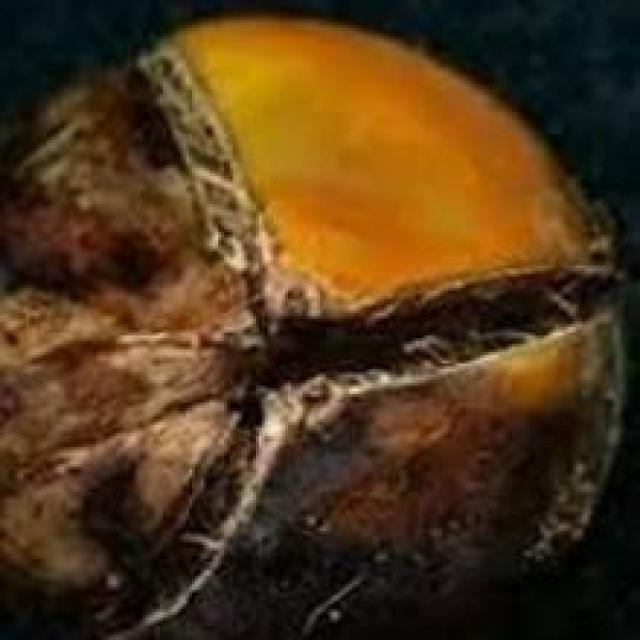damaged: (0, 20, 623, 637)
